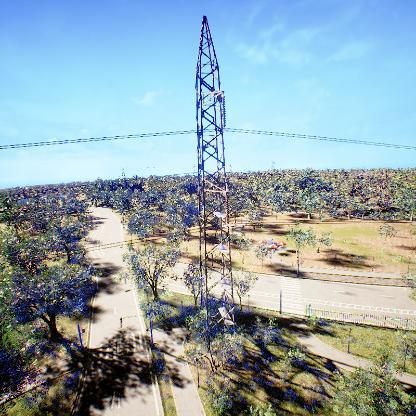tower: (182, 13, 249, 365)
